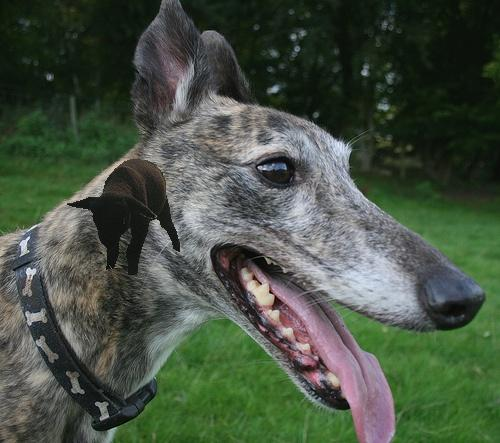tampered: (68, 160, 180, 275)
